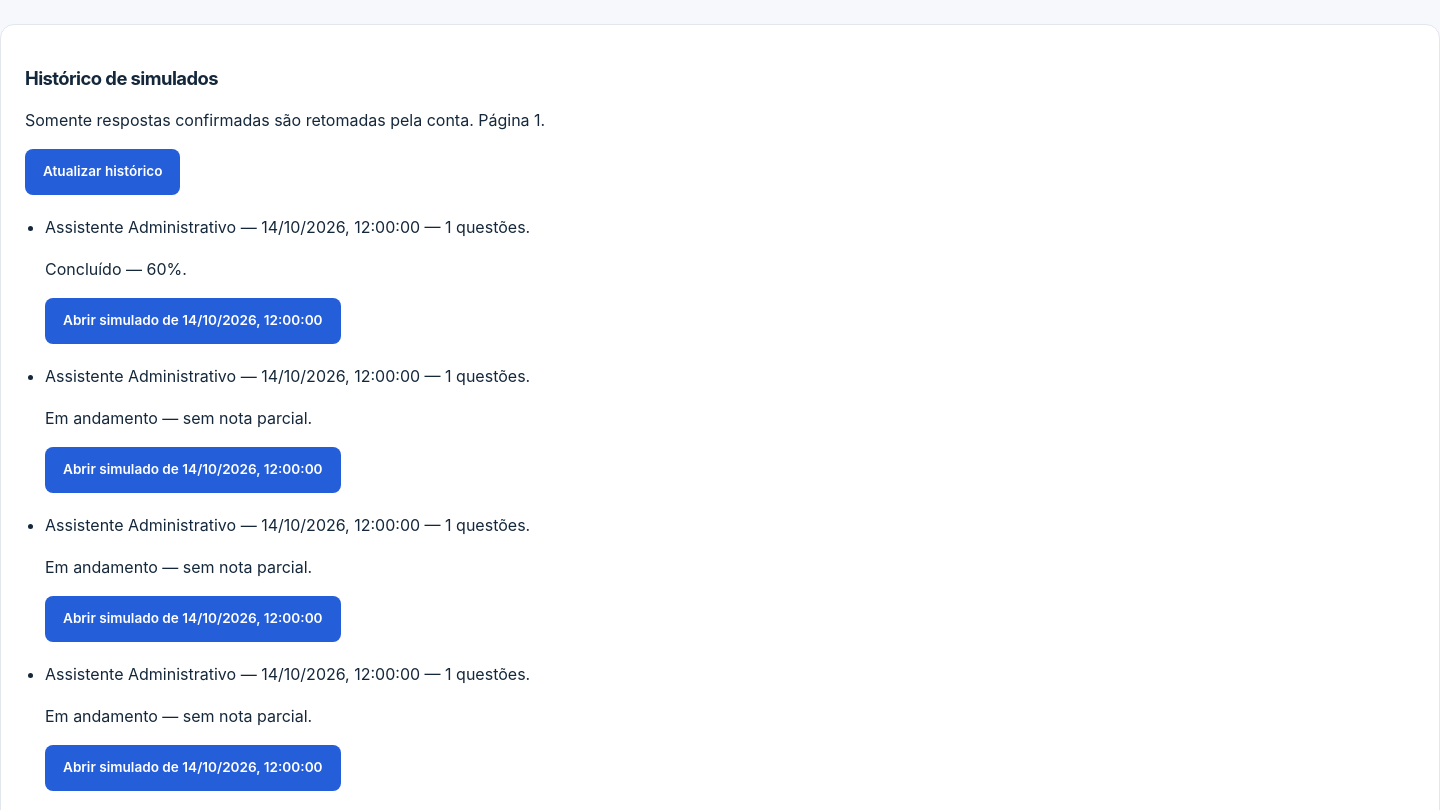
Test: lista andamento sem nota, final com nota e páginas vazias sem repetir dados da página anterior
The image size is (1440, 810).
Expected: the text "Concluído — 60%." is shown, top-left (45, 259), bottom-right (187, 279)
Click the button "Abrir simulado de 14/10/2026, 12:00:00" below "Concluído — 60%.": click(193, 321) top-left (45, 298), bottom-right (341, 344)
(page scrolled)
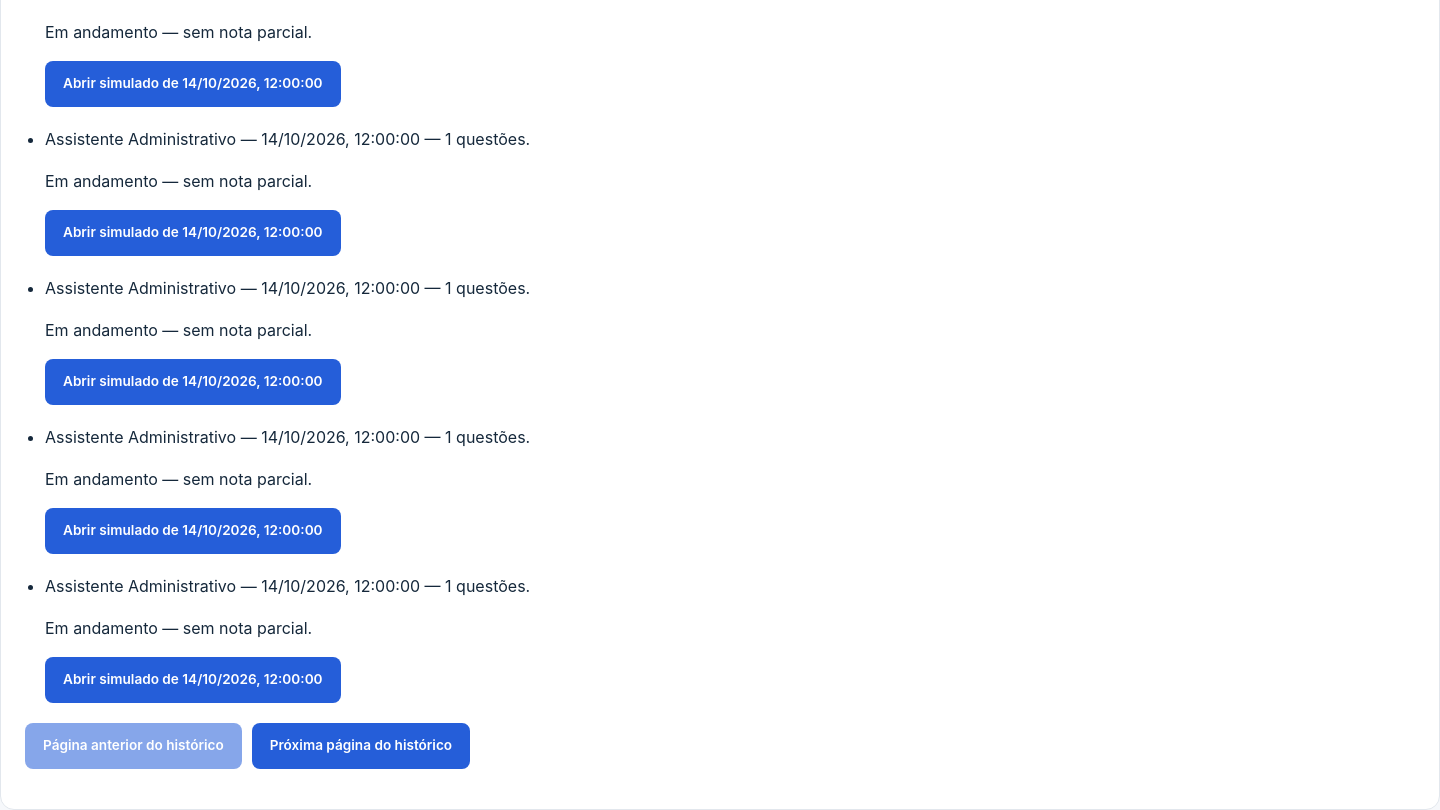
Click the button "Próxima página do histórico": click(361, 746) top-left (252, 723), bottom-right (470, 769)
(page scrolled)
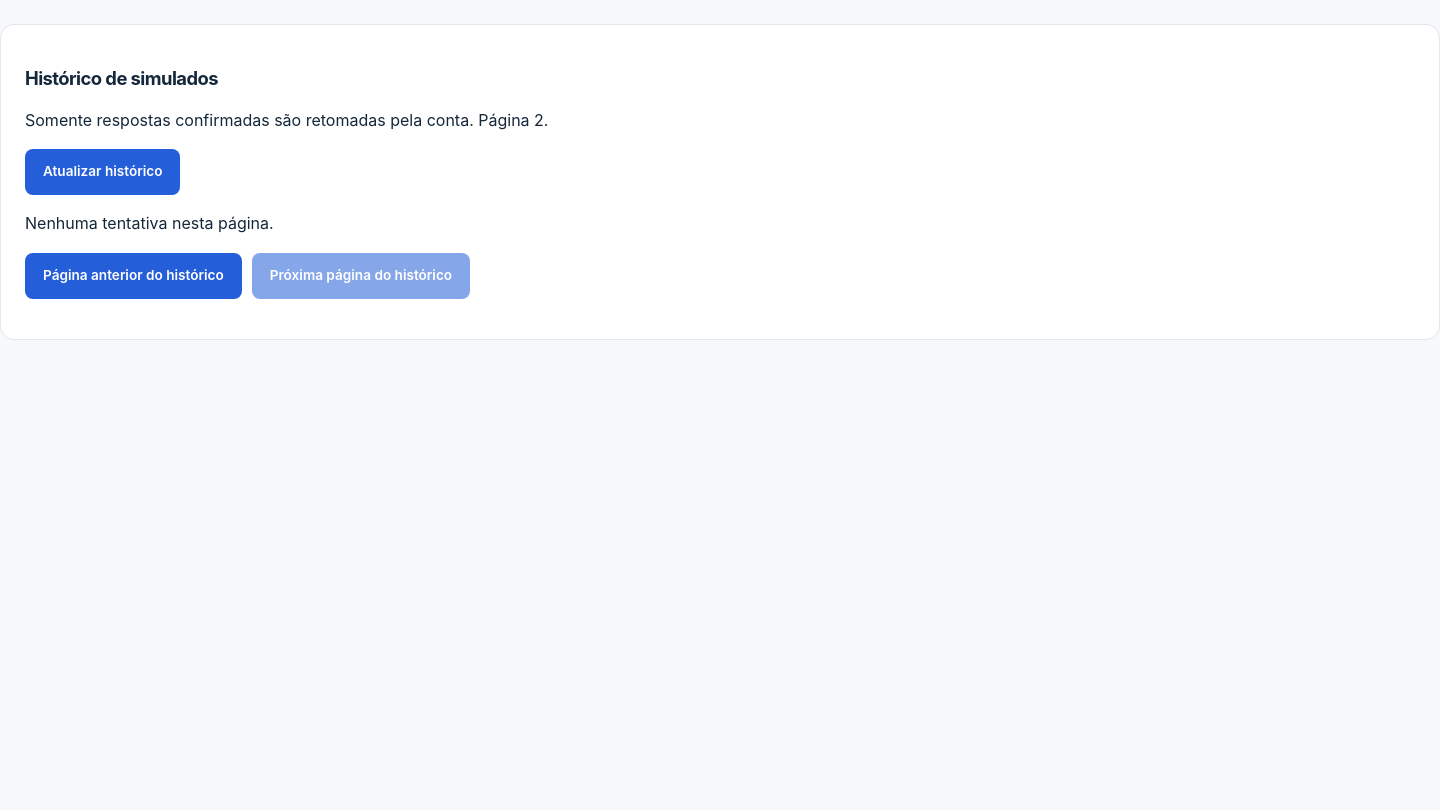
Now the text "Nenhuma tentativa nesta página." is shown, box top-left (25, 213), bottom-right (274, 233)
Now the button "Página anterior do histórico" is enabled, box top-left (25, 253), bottom-right (242, 299)
